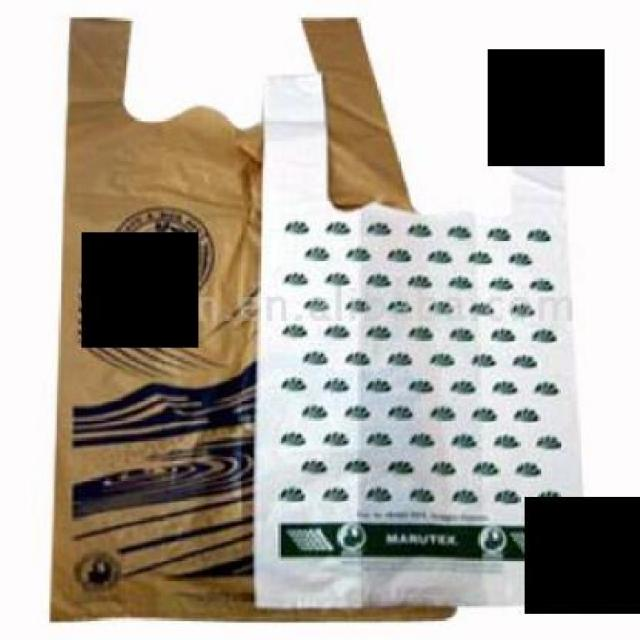plastic bag: (46, 12, 586, 630)
